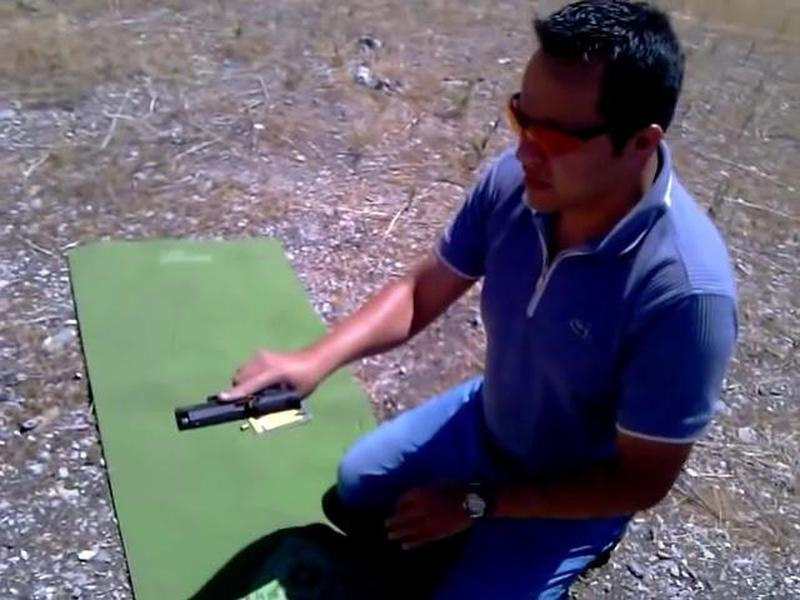Pistola: (162, 337, 323, 443)
